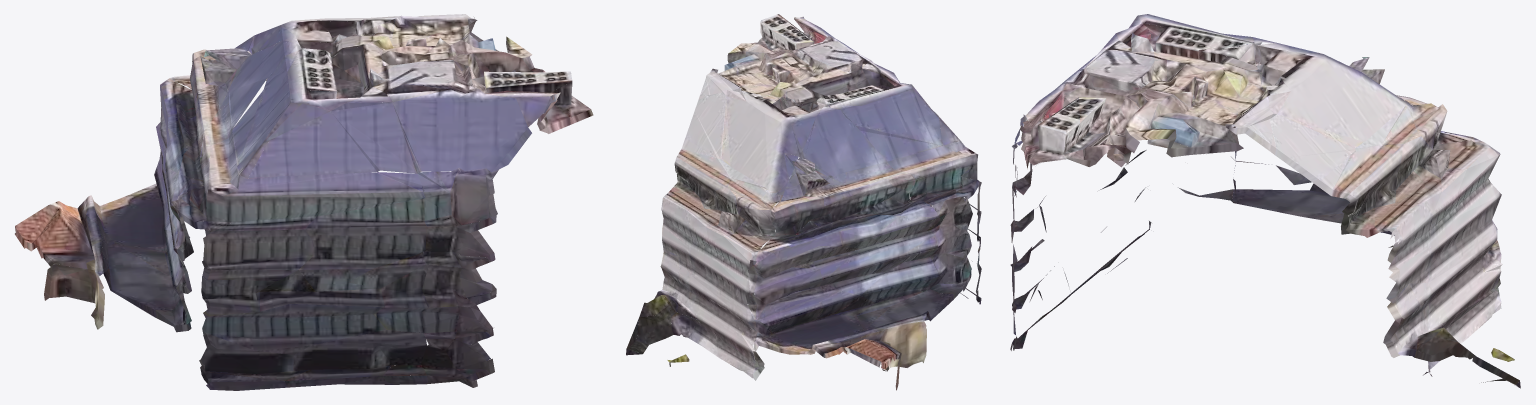
3 renders of one model, left to right at view 1: azimuth 30°, elevation 25°; view 2: azimuth 150°, elevation 25°; view 3: azimuth 270°, elevation 25°, orthographic. The views are drawn at different scales.
Visible parts, largest first — view 1: Mesh_0; view 2: Mesh_0; view 3: Mesh_0.
Part boxes in pixels (x1,y1,x2,y2): Mesh_0: [15, 14, 593, 390]; Mesh_0: [626, 14, 981, 390]; Mesh_0: [1010, 14, 1520, 388].
Size of the model in its own units: 33.45 by 25.31 by 39.31.
Materials: 2 (2 with a texture image).
